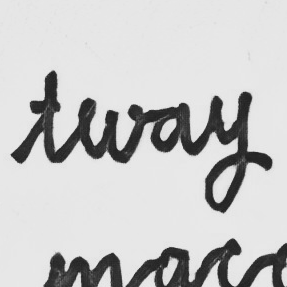a: (147, 99, 193, 156)
t: (27, 67, 71, 165)
w: (74, 94, 145, 165)
y: (201, 88, 254, 215)
